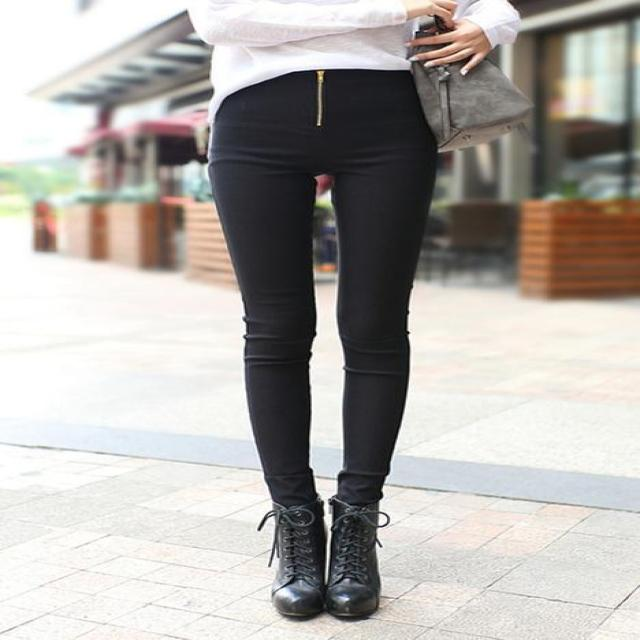trousers: (176, 69, 529, 520)
